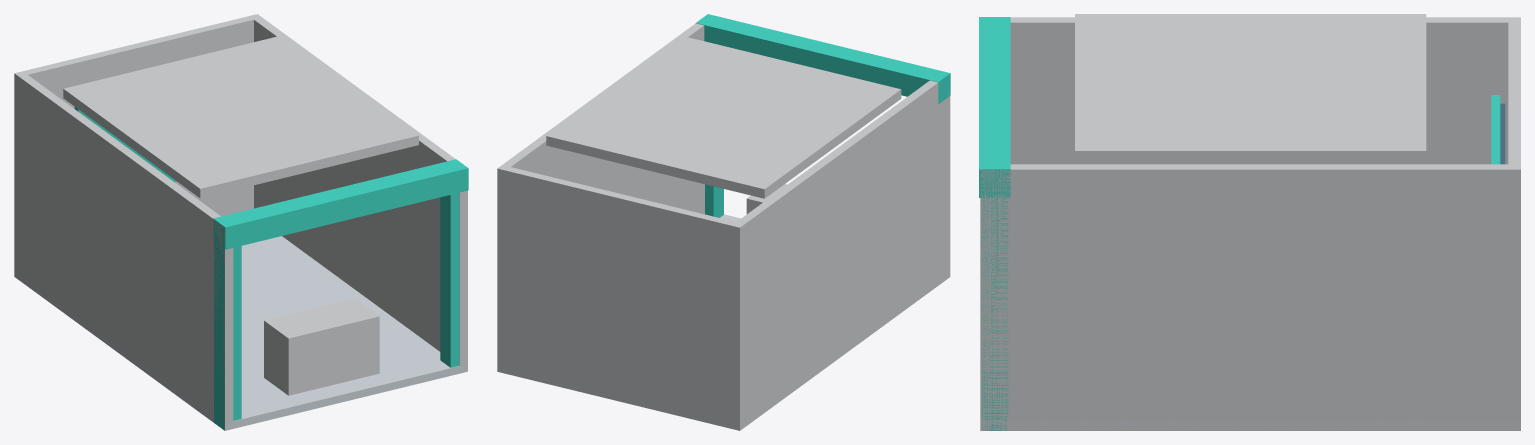
3 renders of one model, left to right at view 1: azimuth 30°, elevation 25°; view 2: azimuth 150°, elevation 25°; view 3: azimuth 270°, elevation 25°, orthographic. The views are drawn at different scales.
Parts seen in each view (by area): view 1: Exhibition Booth Concept; view 2: Exhibition Booth Concept; view 3: Exhibition Booth Concept.
Part boxes in pixels (x1=…): Exhibition Booth Concept: x1=14, y1=14, x2=468, y2=430; Exhibition Booth Concept: x1=497, y1=14, x2=950, y2=430; Exhibition Booth Concept: x1=979, y1=14, x2=1520, y2=430.
Size of the model in its own units: 4 by 3.34 by 6.02.
